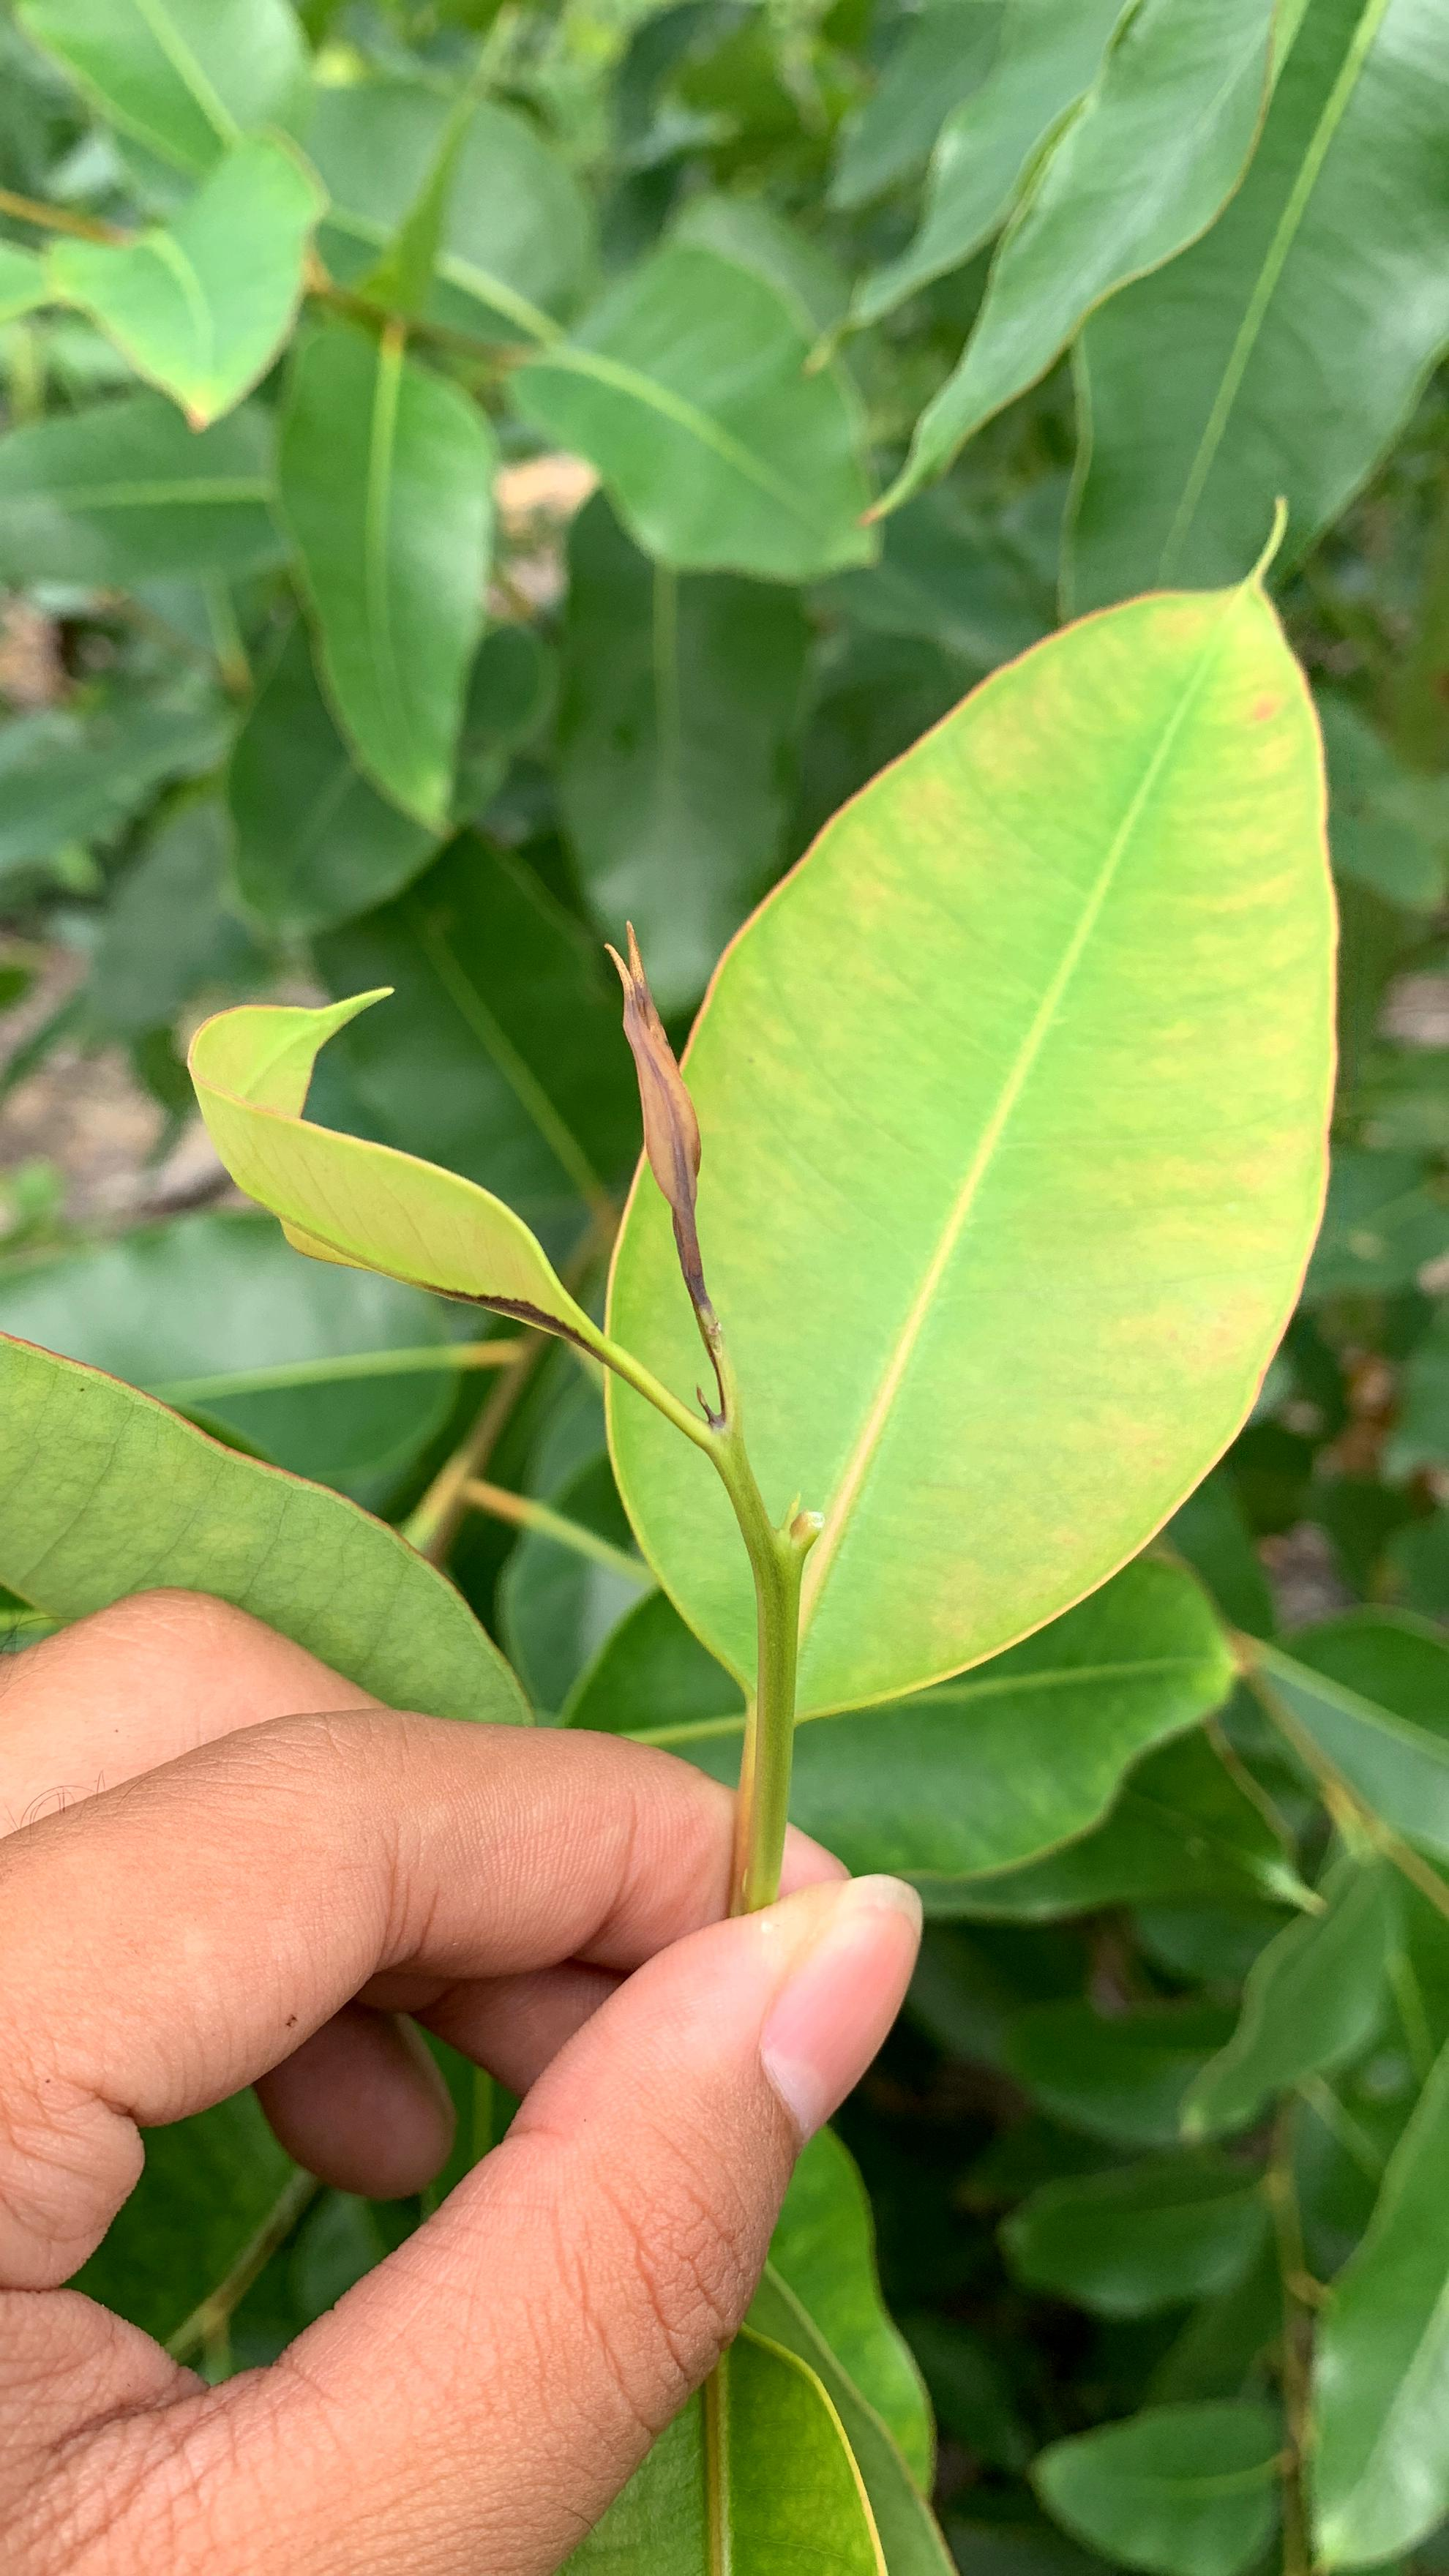Helopeltis-Withered Sprout: (547, 880, 799, 1395)
